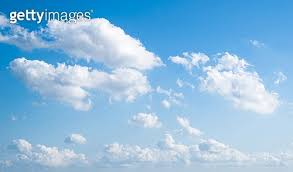sky: (7, 21, 290, 172)
